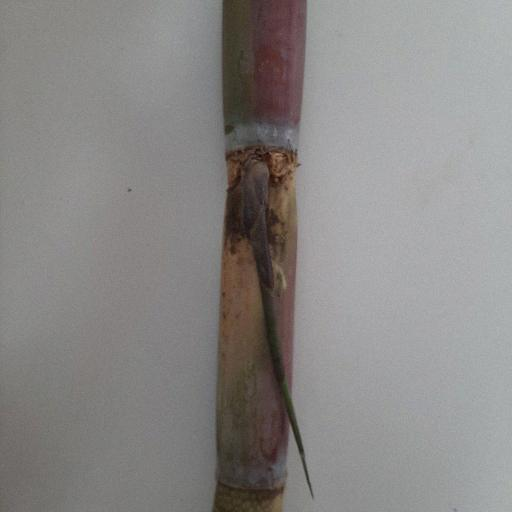Sprouted_Bud: (240, 155, 270, 242)
